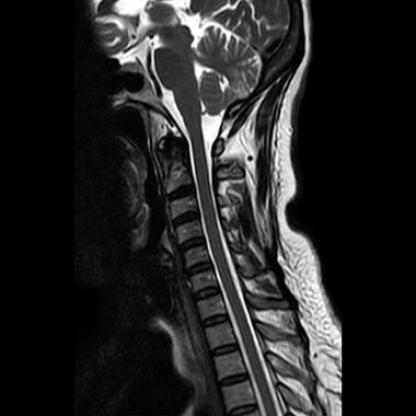Disc Bulgerotation: (185, 261, 215, 277)
